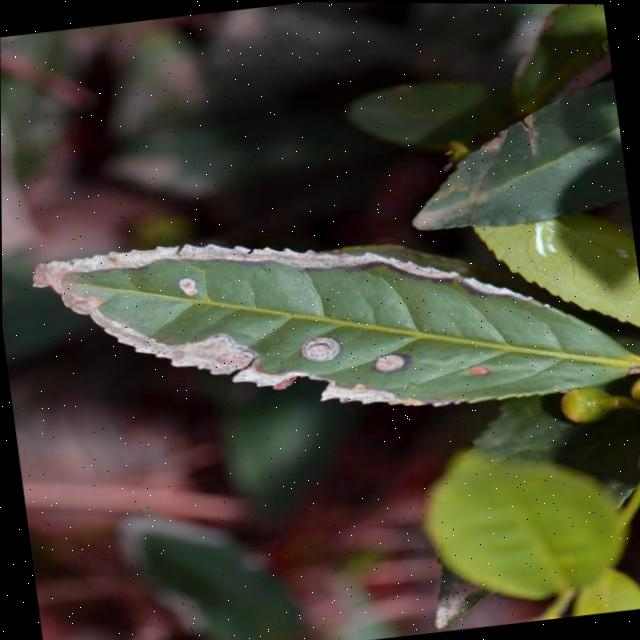Tea cloud leaf blight: (43, 209, 526, 453)
